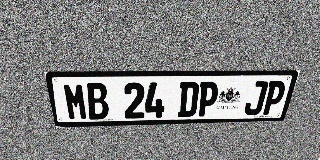2: (124, 82, 144, 119)
4: (145, 82, 165, 118)
B: (85, 83, 109, 120)
D: (177, 82, 200, 117)
J: (243, 81, 269, 115)
M: (62, 83, 89, 120)
P: (260, 81, 288, 115), (196, 81, 220, 117)
